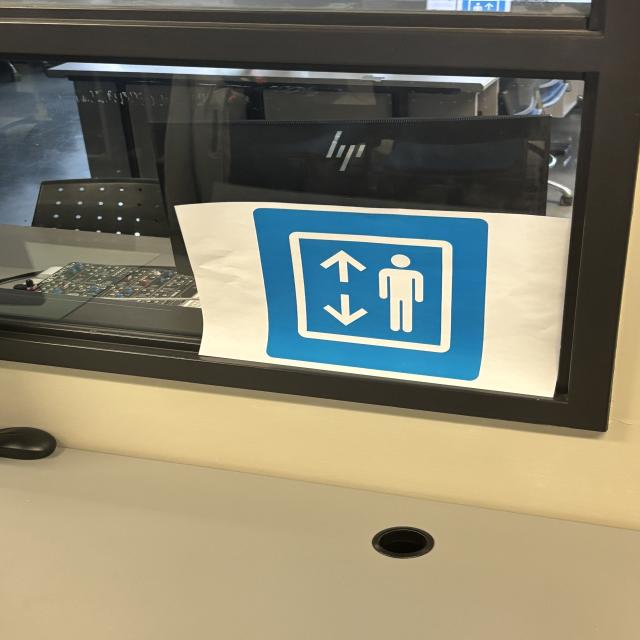elevator: (254, 211, 492, 383)
